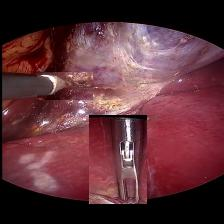Grasper: (88, 115, 146, 204)
Hook: (36, 72, 92, 100)
